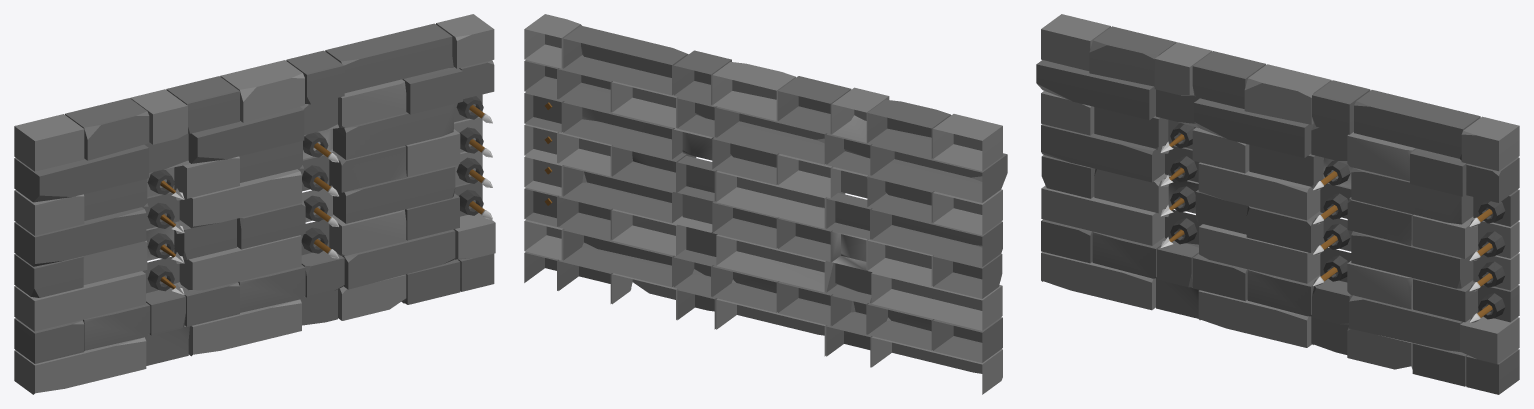
File: Wall_Trap_2.fbx
3 renders of one model, left to right at view 1: azimuth 30°, elevation 25°; view 2: azimuth 150°, elevation 25°; view 3: azimuth 330°, elevation 25°, orthographic.
Parts seen in each view (by area): view 1: Wall_Trap_2, Wall_Arrows_2, Wall_Arrows, Wall_Arrows_3; view 2: Wall_Trap_2; view 3: Wall_Trap_2, Wall_Arrows_2, Wall_Arrows_3, Wall_Arrows.
Boxes of the visible parts, left/top/right/bottom form: Wall_Trap_2: left=14, top=14, right=495, bottom=394; Wall_Arrows_2: left=314, top=143, right=338, bottom=258; Wall_Arrows: left=160, top=180, right=184, bottom=295; Wall_Arrows_3: left=469, top=105, right=492, bottom=219; Wall_Trap_2: left=524, top=14, right=1007, bottom=394; Wall_Trap_2: left=1036, top=14, right=1519, bottom=394; Wall_Arrows_2: left=1312, top=171, right=1337, bottom=286; Wall_Arrows_3: left=1469, top=209, right=1492, bottom=323; Wall_Arrows: left=1160, top=134, right=1184, bottom=248.
Size of the model in its own units: 411 by 218 by 56.15.
Materials: 1 (1 with a texture image).
